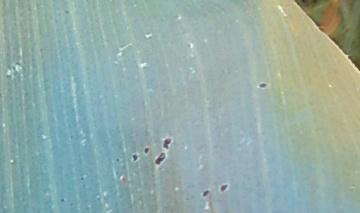tarspot: (152, 151, 167, 166), (162, 136, 172, 151), (218, 182, 230, 194), (130, 152, 139, 164), (256, 81, 269, 89), (200, 189, 210, 197), (142, 145, 149, 156), (113, 156, 122, 164), (186, 41, 193, 50), (58, 196, 66, 203), (62, 8, 69, 15), (78, 175, 84, 181)
